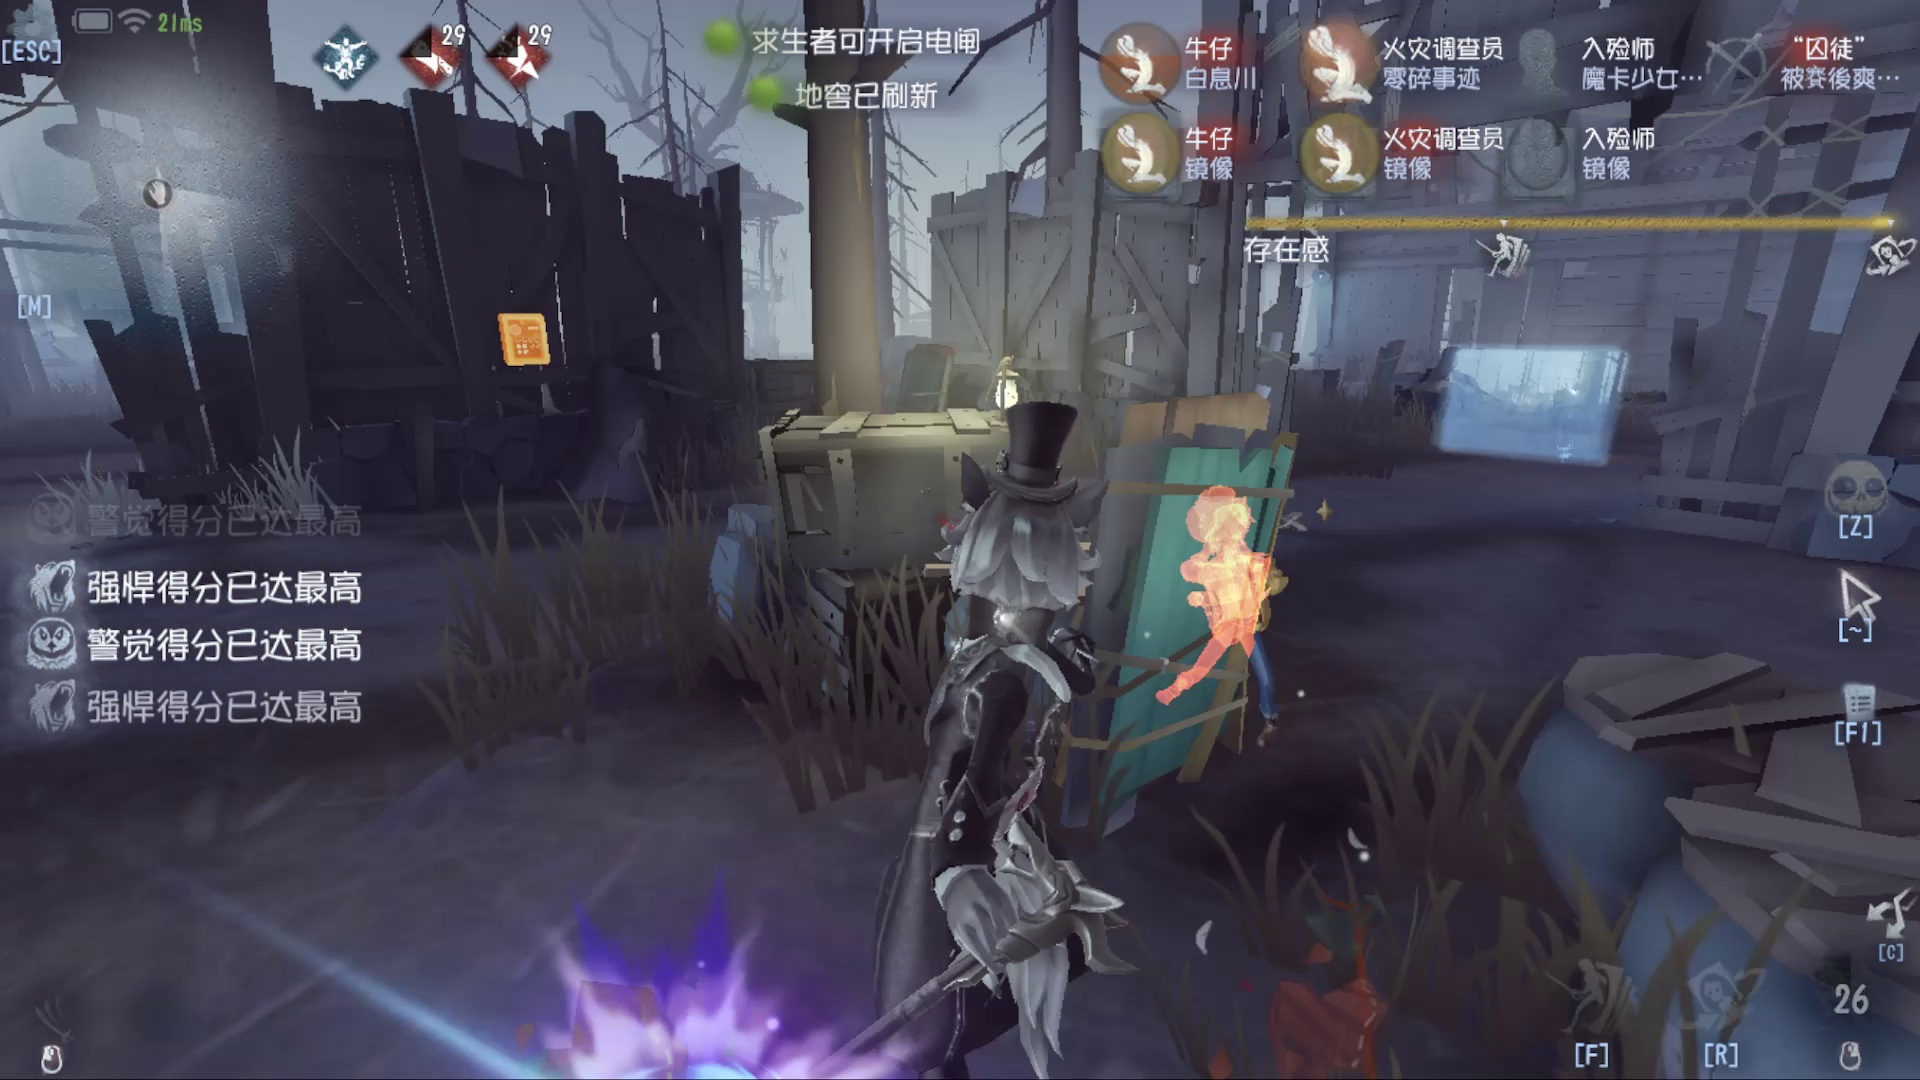木板: (1096, 396, 1262, 796), (886, 328, 960, 426)
求生者: (1170, 471, 1292, 674)
